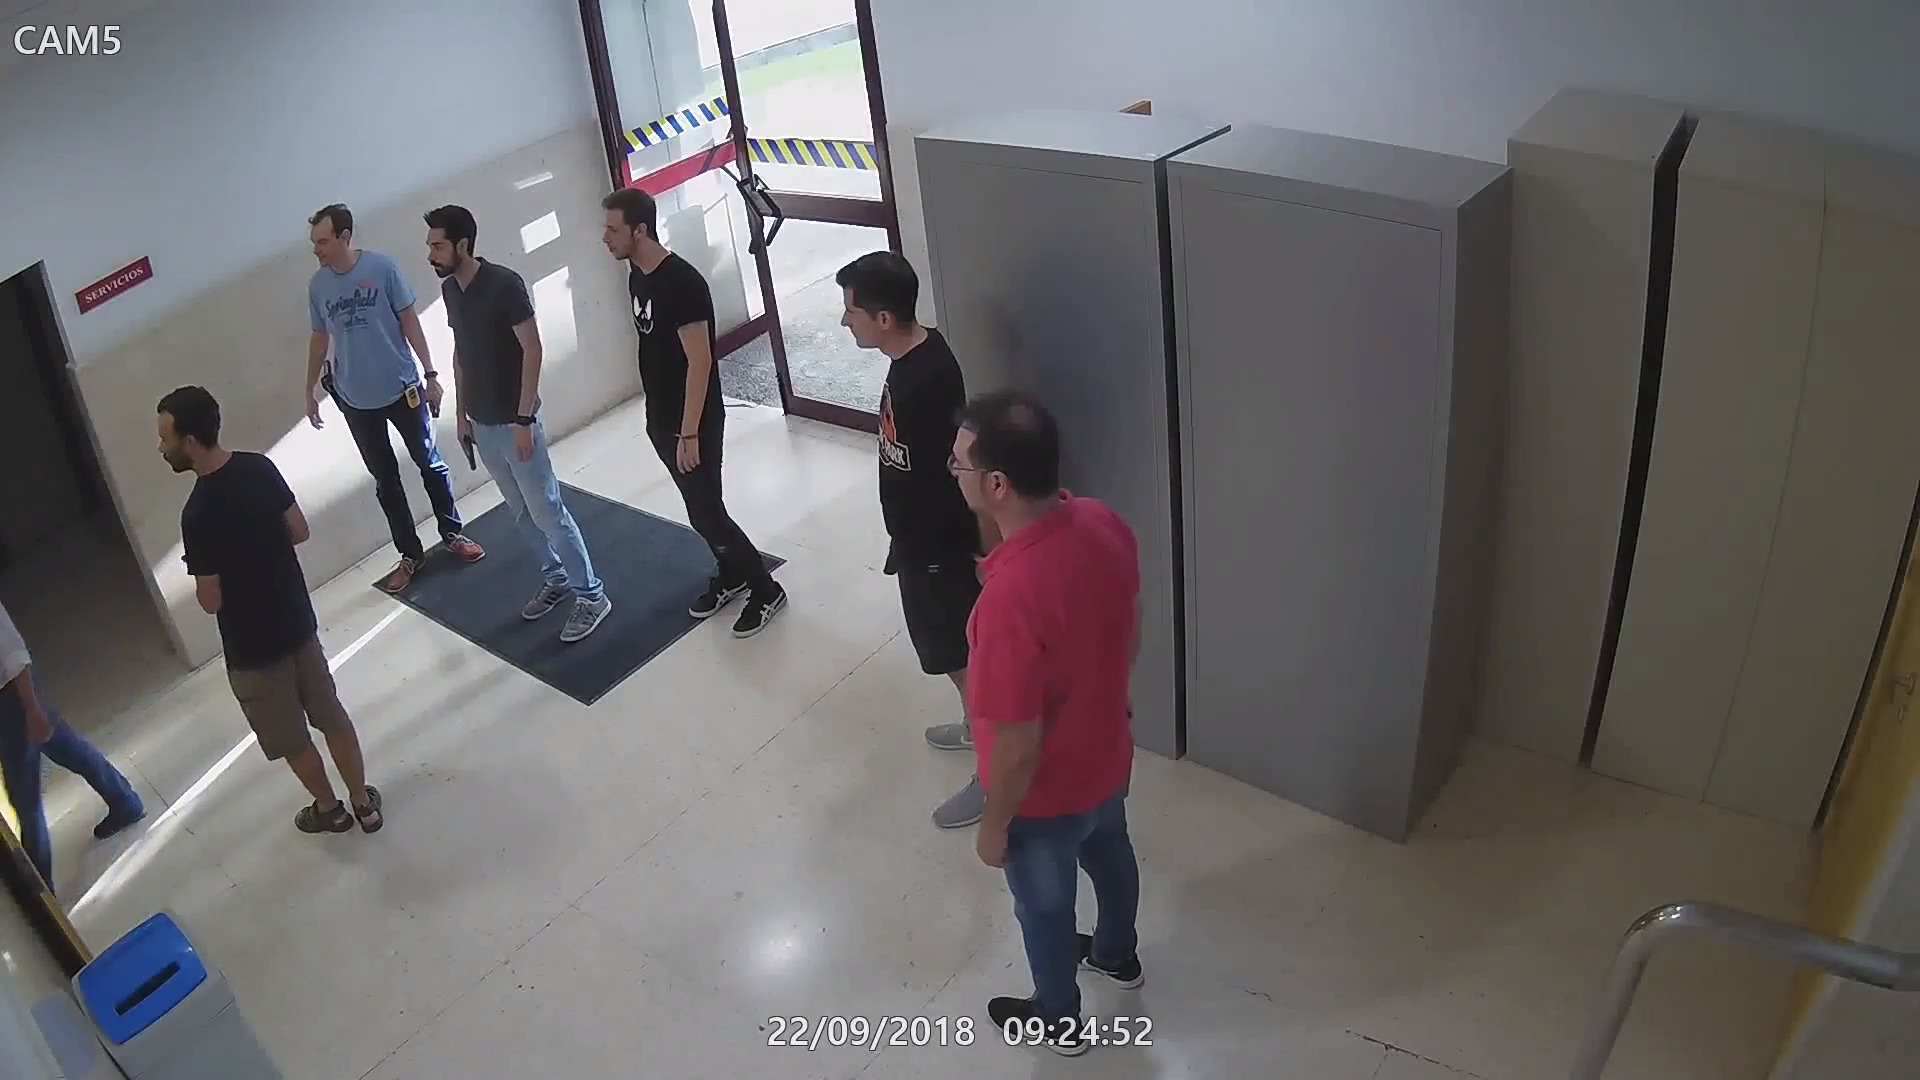Handgun: (454, 413, 480, 473), (316, 355, 343, 413), (882, 527, 901, 582)
Knife: (421, 371, 447, 456)
